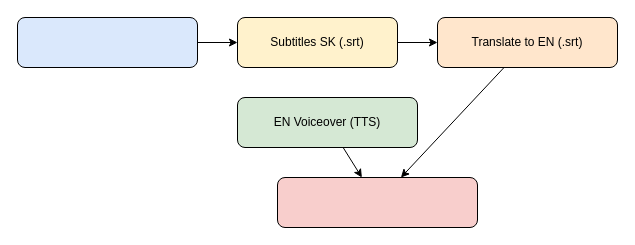
Image size: 635x245. Some labels were removed from this diagram. Each missing label, with the box of its shape:
Publish: YouTube + GitHub: (276, 176, 478, 228)
SK Video (OBS/AP): (16, 16, 198, 68)
